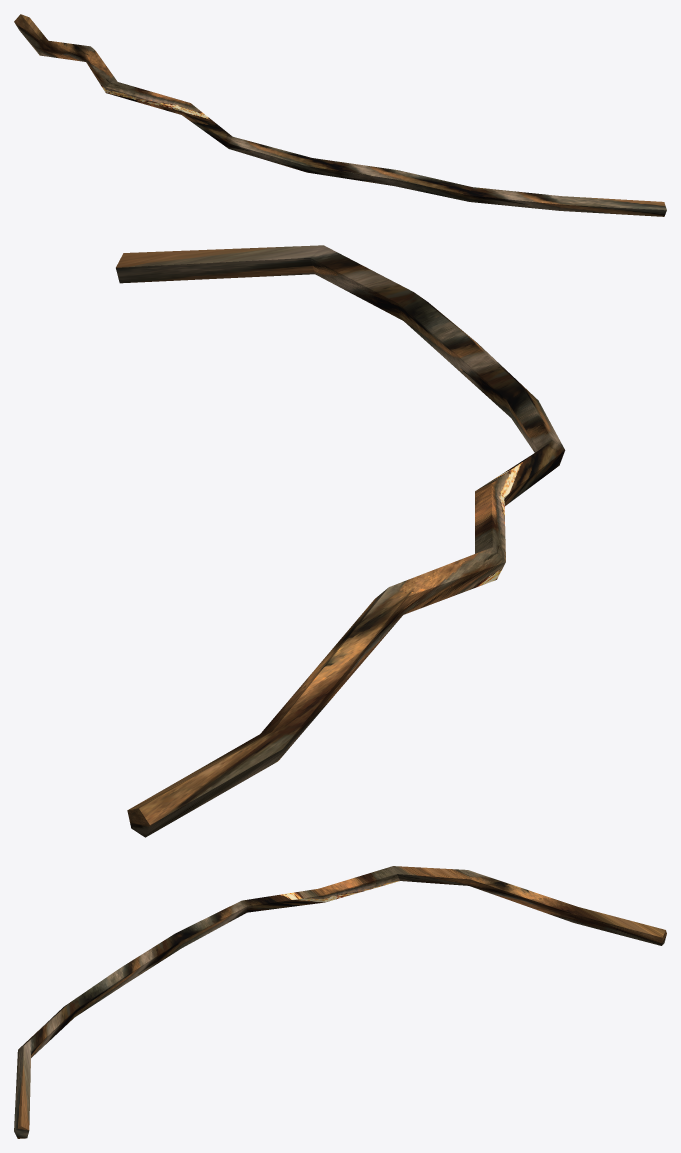
The model's file is ColdZone_Log.gltf.
The picture shows the model from 3 angles, top to bottom: view 1: azimuth 30°, elevation 25°; view 2: azimuth 150°, elevation 25°; view 3: azimuth 270°, elevation 25°; orthographic projection. The views are drawn at different scales.
Parts seen in each view (by area): view 1: ColdZone_Log; view 2: ColdZone_Log; view 3: ColdZone_Log.
Boxes of the visible parts, x1=… form: ColdZone_Log: x1=14, y1=14, x2=666, y2=216; ColdZone_Log: x1=116, y1=245, x2=565, y2=837; ColdZone_Log: x1=14, y1=866, x2=666, y2=1138.
Size of the model in its own units: 54 by 12.9 by 80.31.
1 material, 1 textured.
